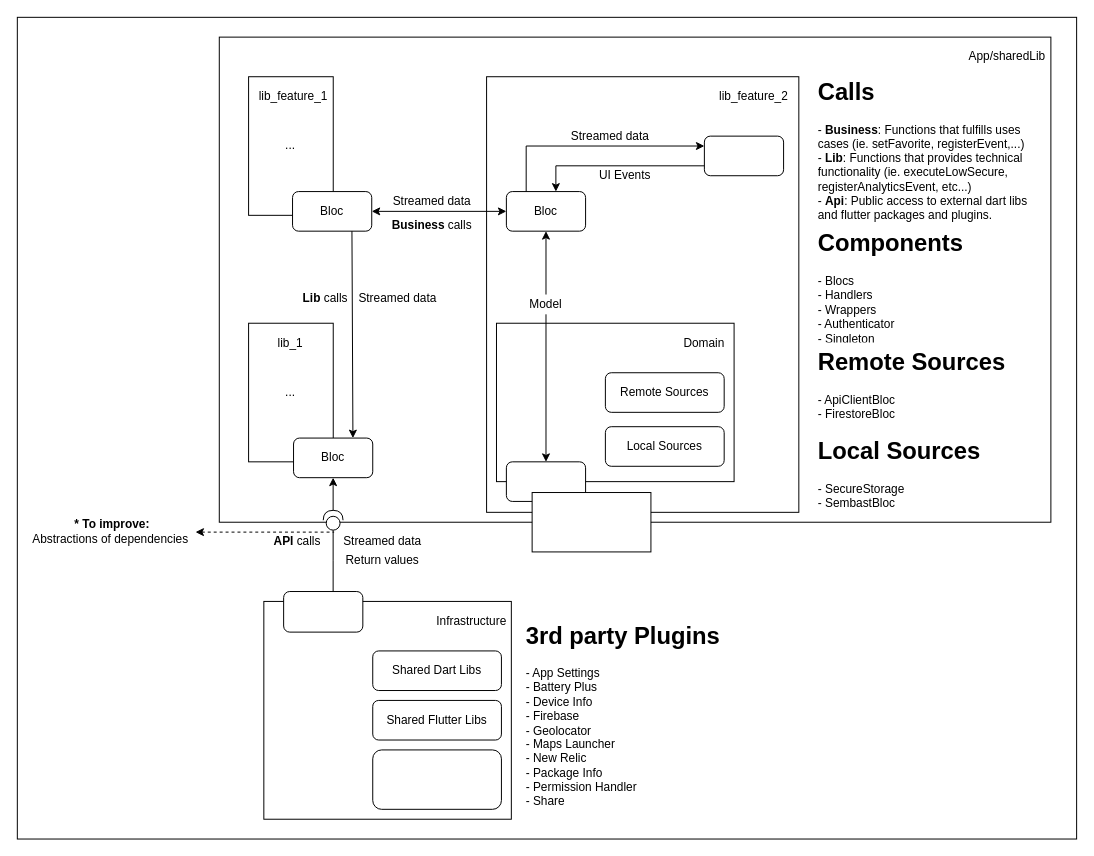
Image size: 1094x856. Some labels were removed from this diagram. Each missing label, with the centre of its shape:
"3rd Party Packages & Plugins" belongs at pixel 436 779.
"Component" belongs at pixel 545 481.
"libs APIs Components" belongs at pixel 323 611.
"Widgets" belongs at pixel 743 155.
